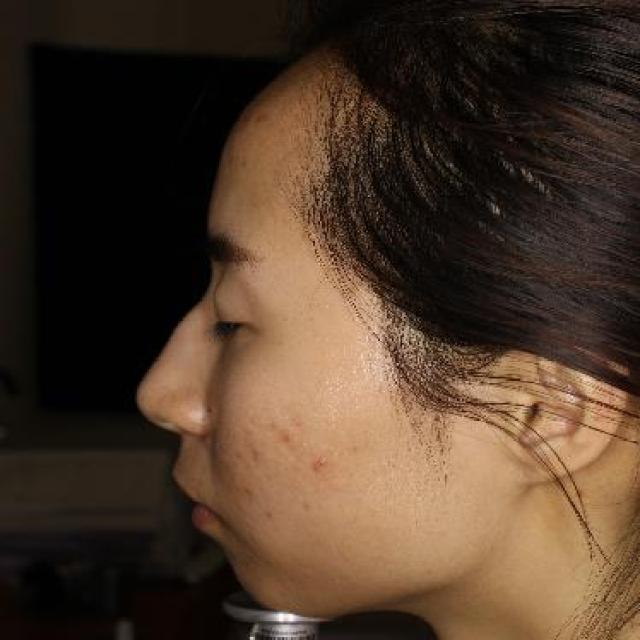papules: (310, 448, 334, 477)
